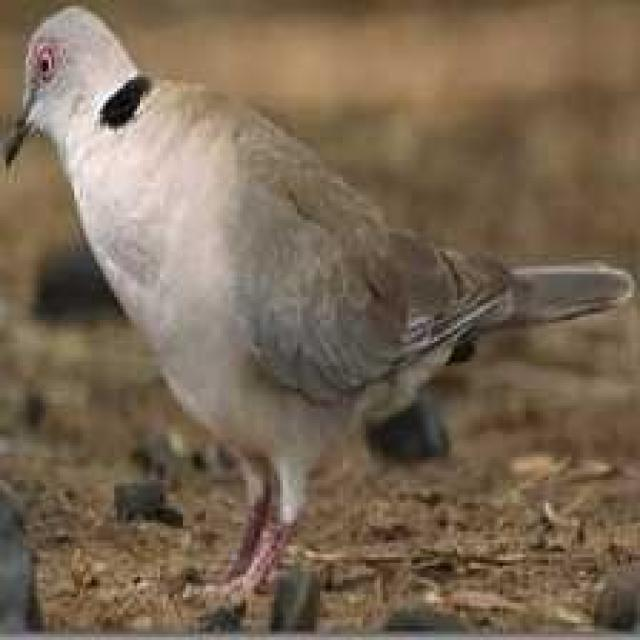dove: (2, 4, 640, 605)
